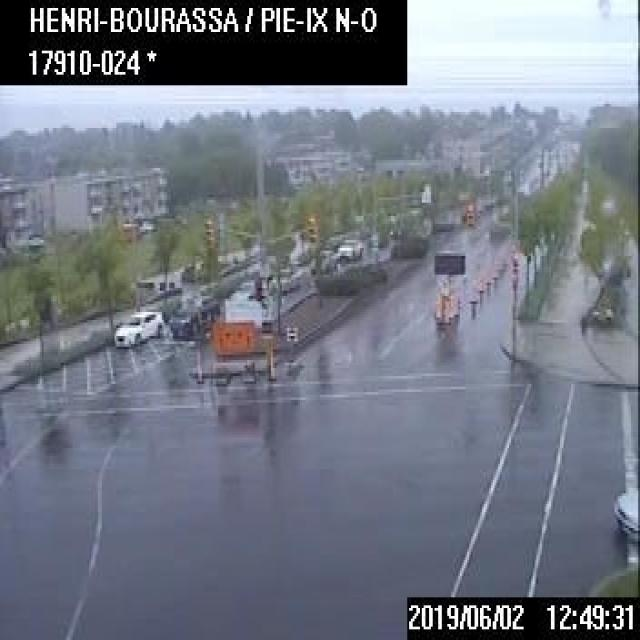construction: (202, 294, 273, 366), (431, 251, 464, 320), (469, 279, 475, 301), (434, 290, 439, 314), (478, 272, 482, 290), (486, 266, 490, 282)
vehicle: (111, 310, 164, 350), (168, 295, 218, 333), (609, 485, 638, 544), (335, 237, 360, 259)
